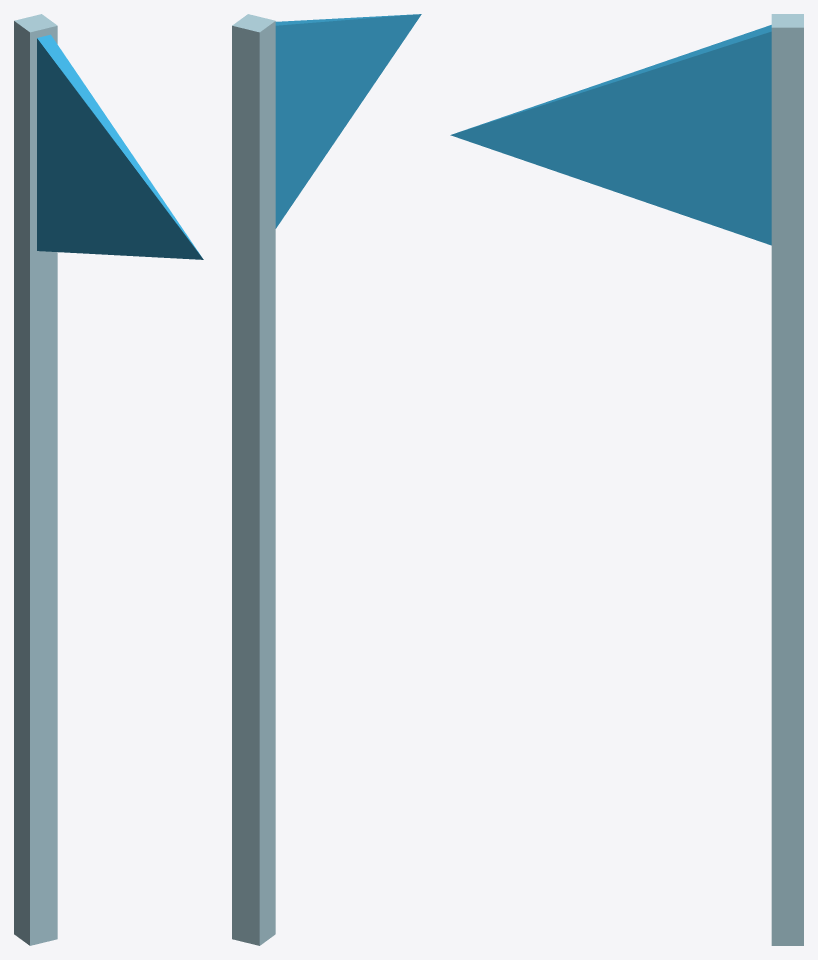
The model's file is flag_blue.obj.
3 renders of one model, left to right at view 1: azimuth 30°, elevation 25°; view 2: azimuth 150°, elevation 25°; view 3: azimuth 270°, elevation 25°, orthographic.
Parts seen in each view (by area): view 1: flag_blue; view 2: flag_blue; view 3: flag_blue.
Part boxes in pixels (box(x1,y1,x2,y2)): flag_blue: box(14, 14, 203, 945); flag_blue: box(232, 14, 421, 945); flag_blue: box(450, 14, 803, 945).
Size of the model in its own units: 0.0333 by 1.05 by 0.3666.
